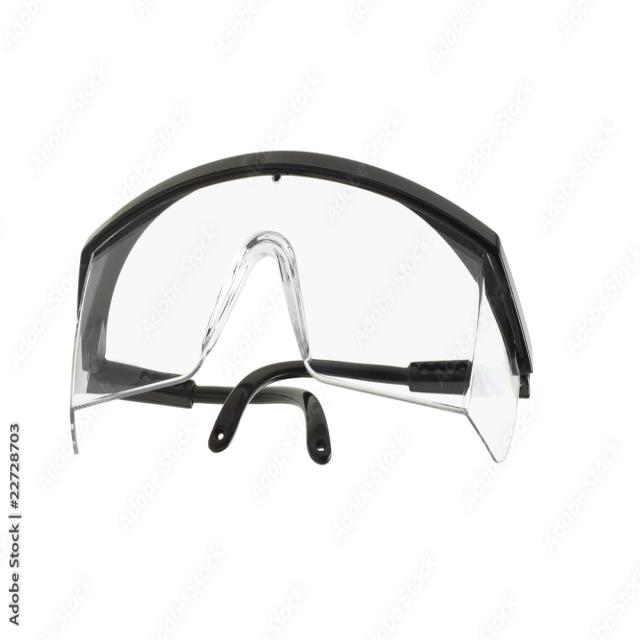Goggles: (60, 156, 548, 541)
